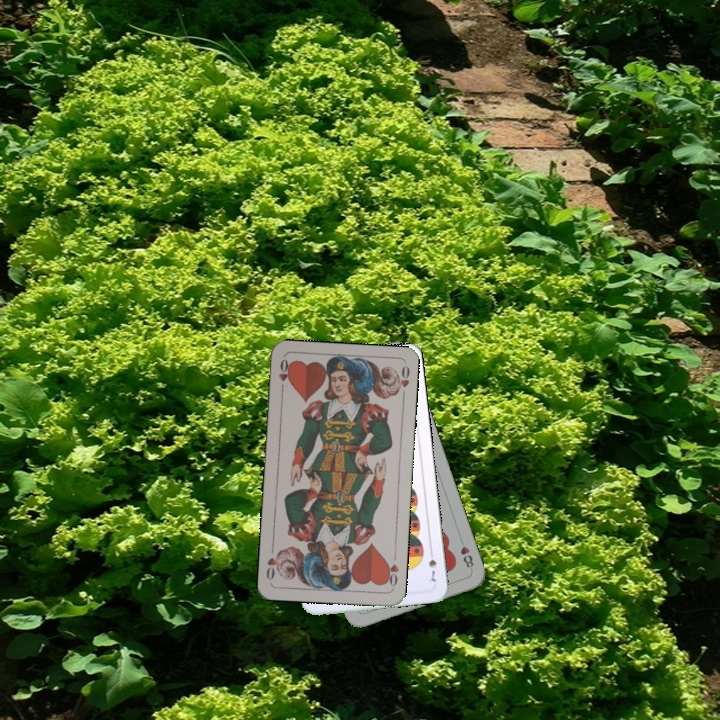H8: (455, 534, 476, 570)
HO: (382, 550, 401, 590), (275, 355, 293, 395)
S7: (424, 546, 439, 584)
